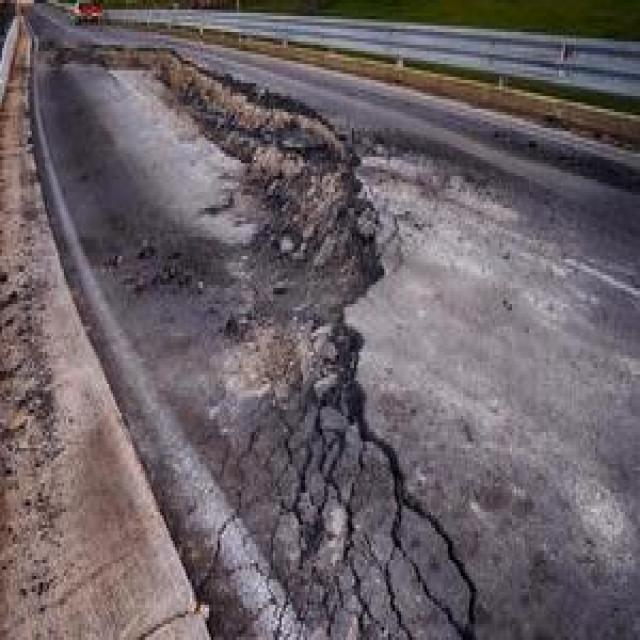road collapse: (3, 0, 636, 640)
